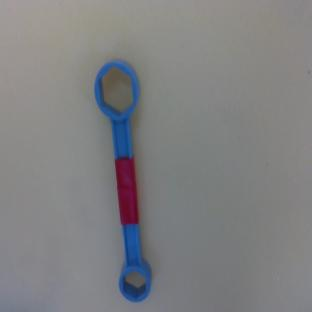part_3_good: (93, 58, 153, 303)
